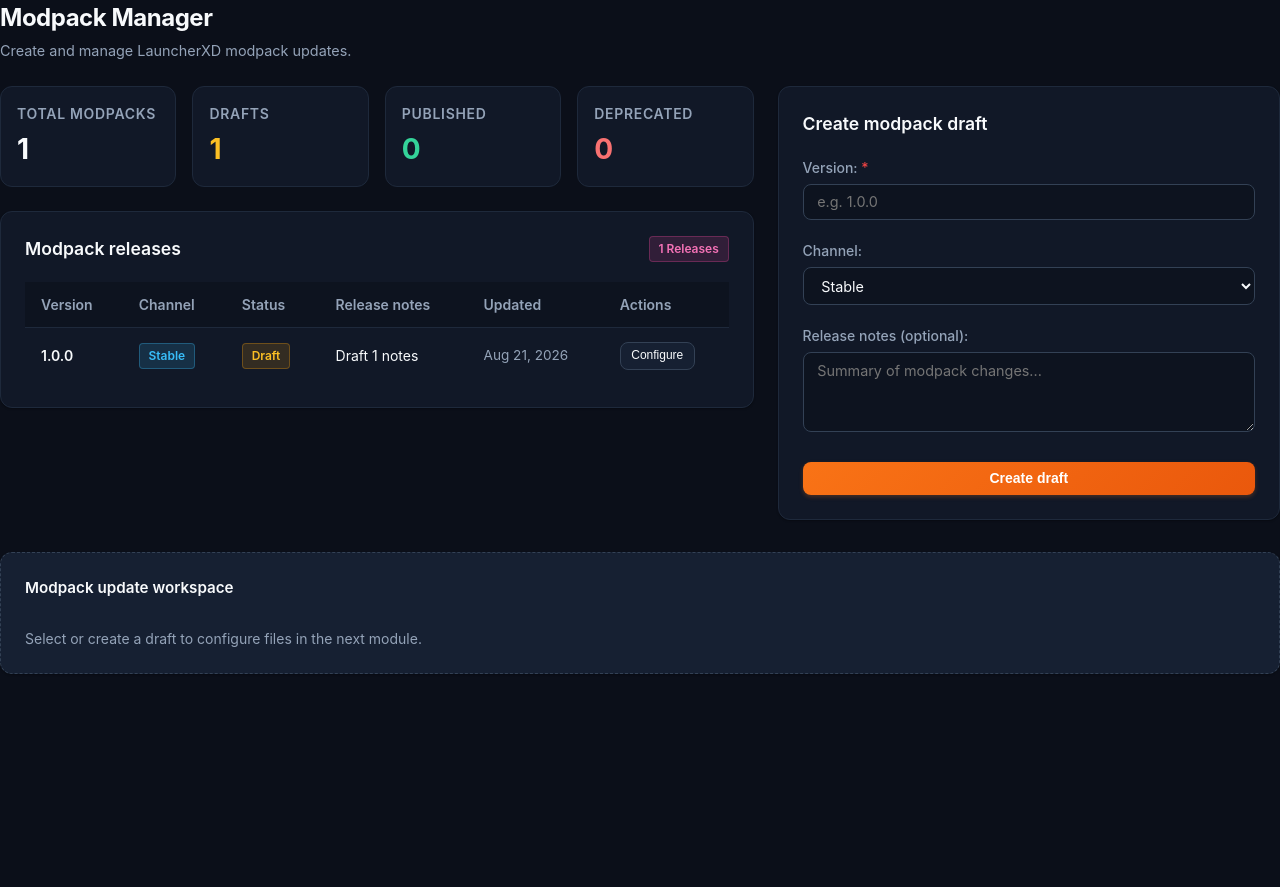
Scenario: Modpack Publish & GitHub Integration UI Functional Tests (Module 3B-2) › 2. Pending validation prevents Prepare
Click the button with test id "configure-modpack-modpack-draft-1" at point(657, 356), box [620, 342, 695, 370]
(page scrolled)
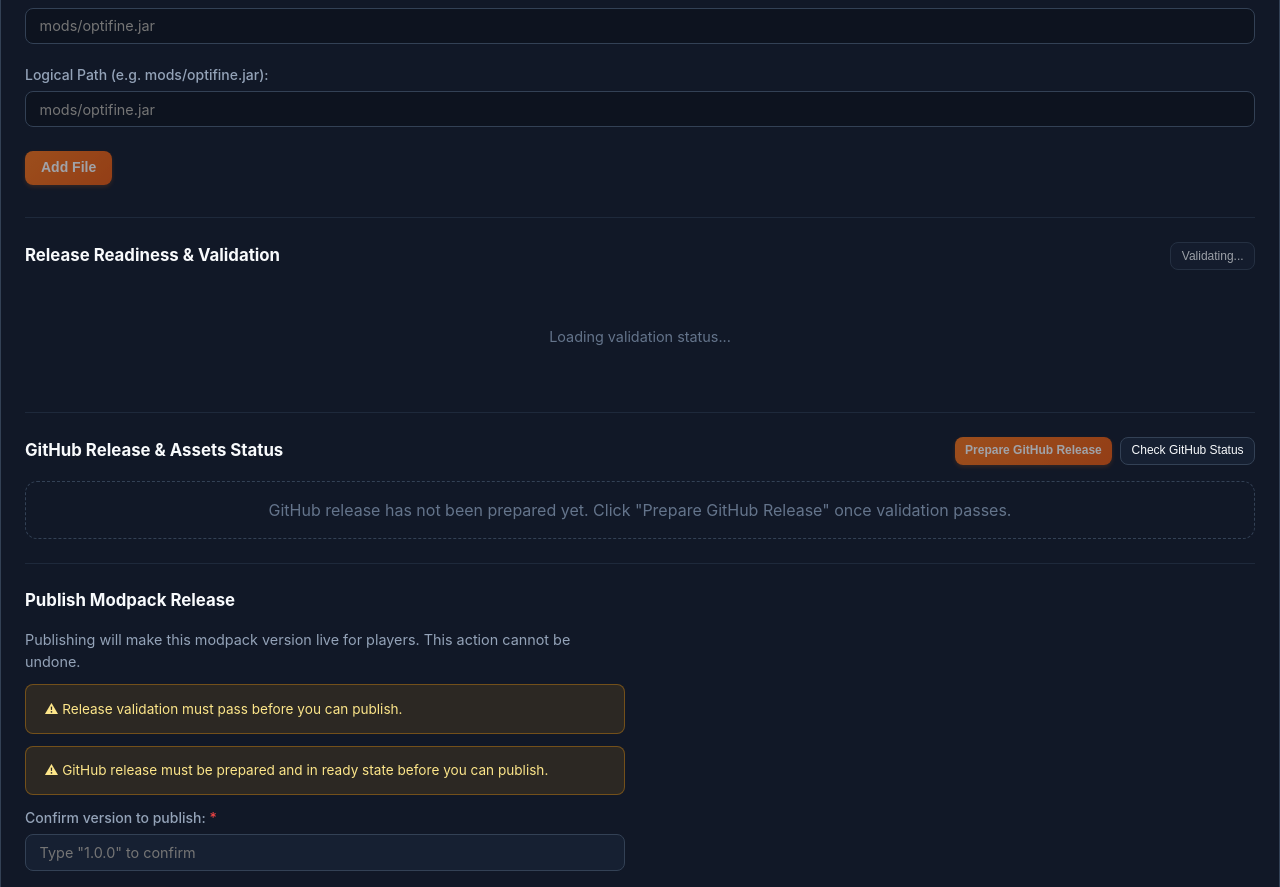
Expected: the text "Loading validation status..." is shown, [549, 328, 731, 345]
Expected: the button with test id "prepare-github-btn" is disabled
Click the button with test id "prepare-github-btn" at point(1033, 451), box [955, 437, 1112, 465]
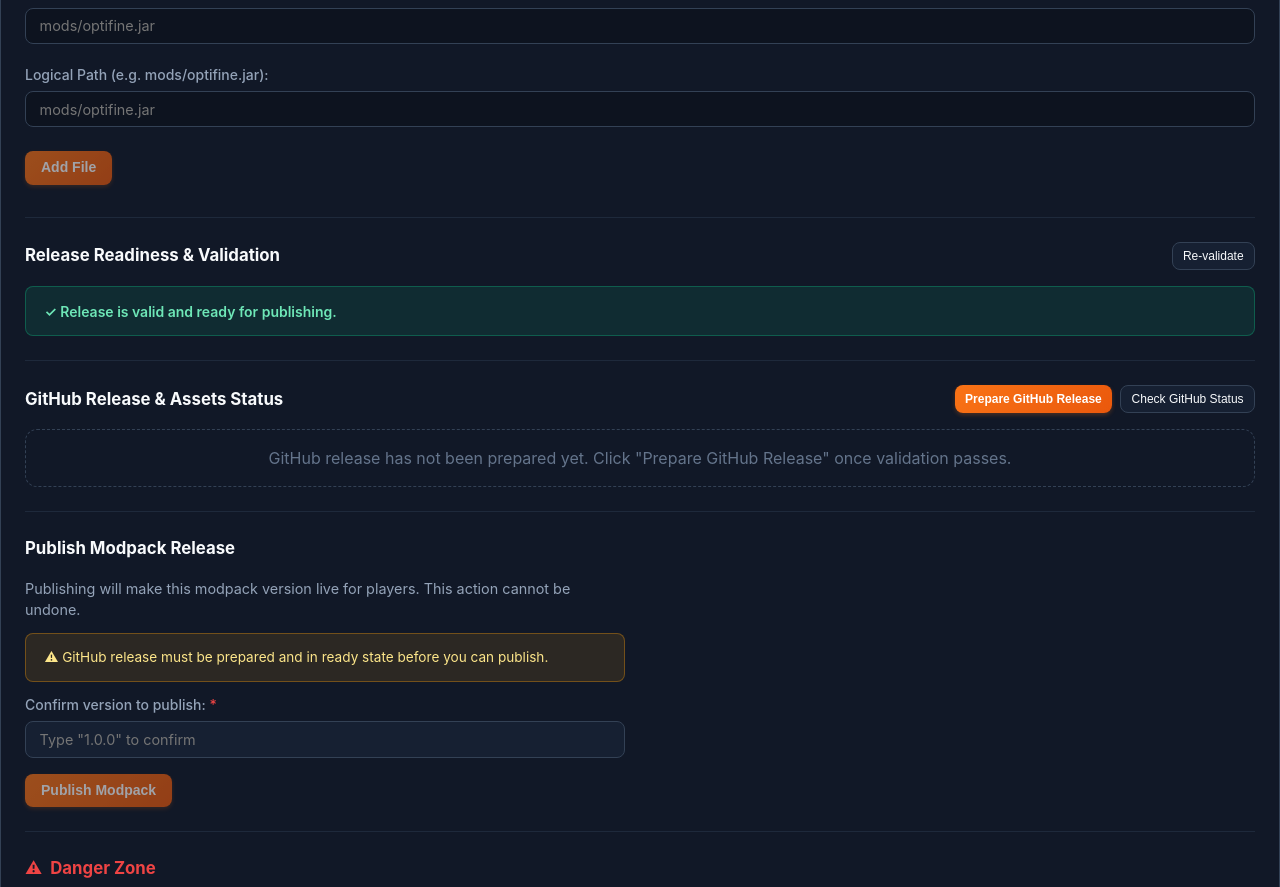
Expected: the button with test id "prepare-github-btn" is enabled, [955, 385, 1112, 414]
